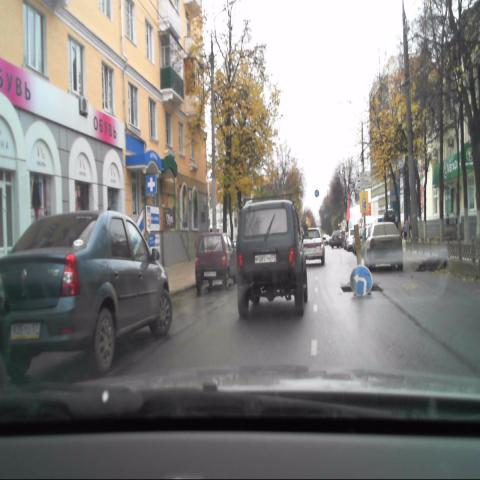4_1_3: (350, 265, 372, 296)
